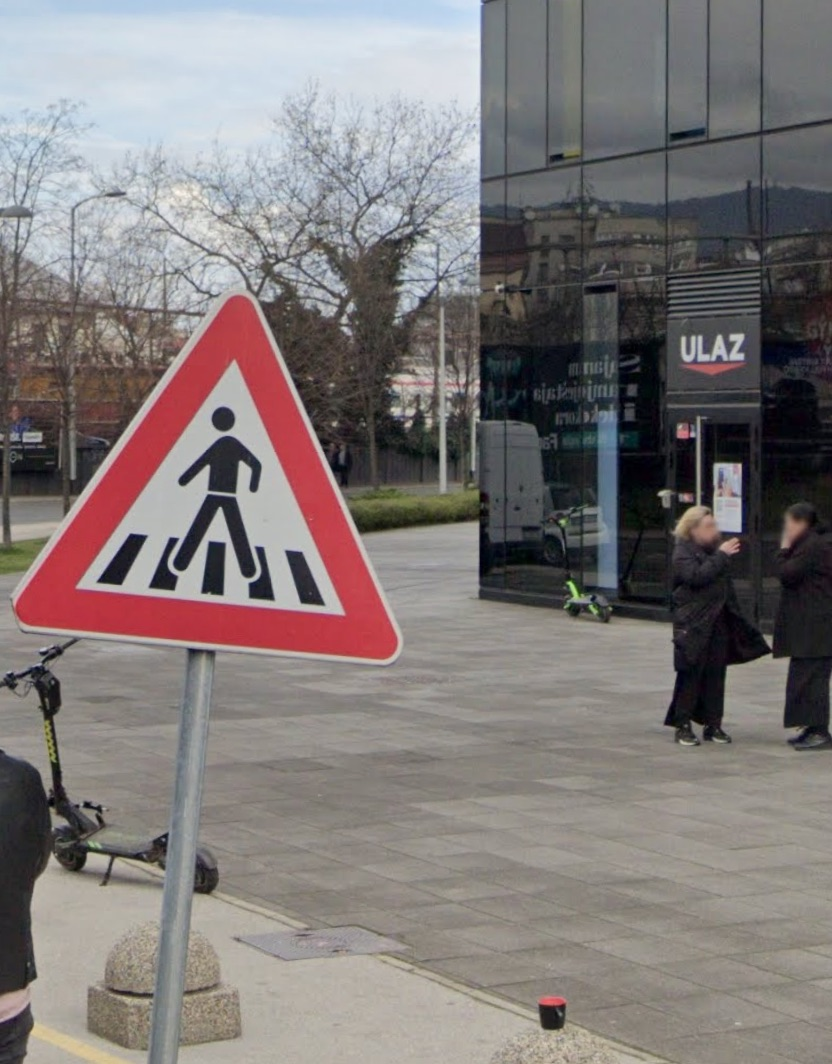Približavanje pješačkom prijelazu: (12, 291, 404, 666)
